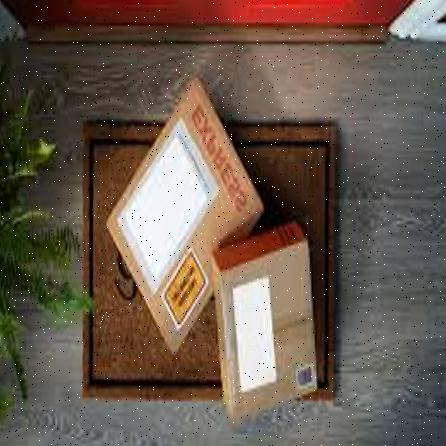Other: (103, 74, 260, 354), (212, 229, 332, 434)
